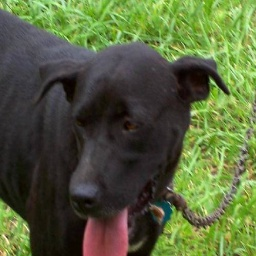dog: (0, 9, 201, 254)
